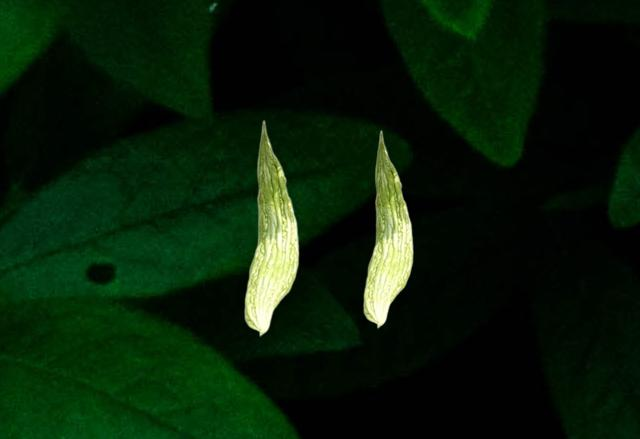ampalaya: (242, 119, 301, 337), (361, 129, 414, 329)
